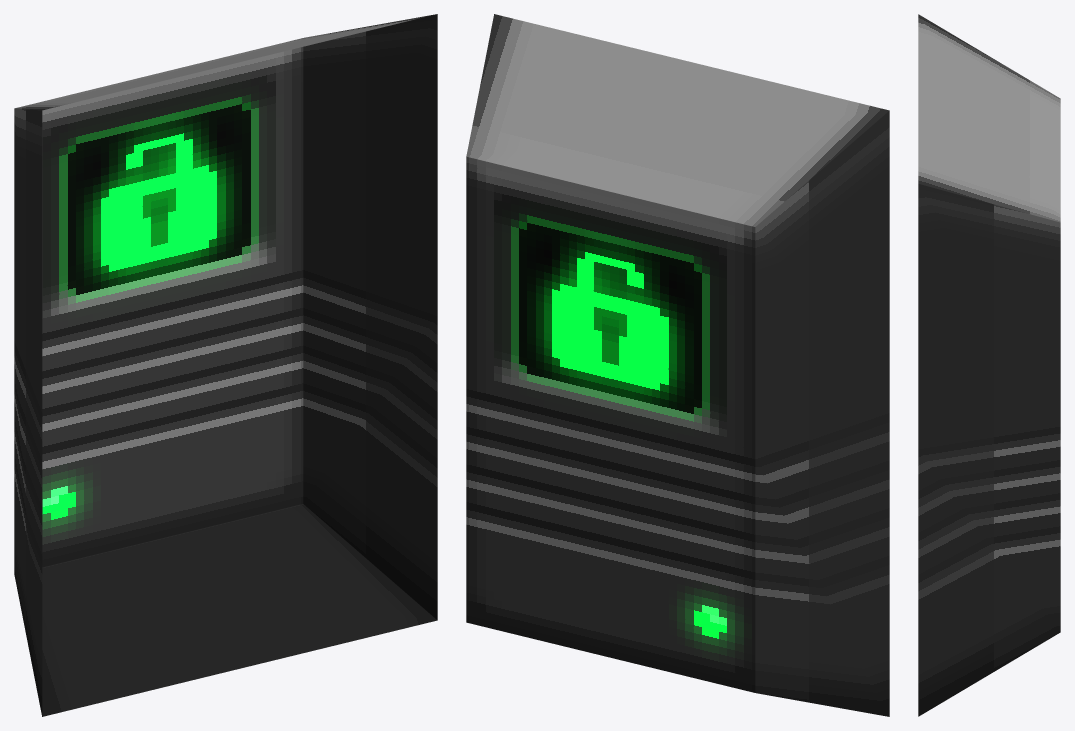
Rendered from SM_SYD_Gameplay_KeycardScanner01.fbx.
The picture shows the model from 3 angles, left to right: view 1: azimuth 30°, elevation 25°; view 2: azimuth 150°, elevation 25°; view 3: azimuth 270°, elevation 25°; orthographic projection. The views are drawn at different scales.
Visible parts, largest first — view 1: SM_SYD_Gameplay_KeycardScanner01; view 2: SM_SYD_Gameplay_KeycardScanner01; view 3: SM_SYD_Gameplay_KeycardScanner01.
Boxes of the visible parts, <box> form: SM_SYD_Gameplay_KeycardScanner01: <box>14,14,437,716</box>; SM_SYD_Gameplay_KeycardScanner01: <box>466,14,889,716</box>; SM_SYD_Gameplay_KeycardScanner01: <box>918,14,1060,716</box>.
Size of the model in its own units: 48.45 by 70.99 by 17.21.
